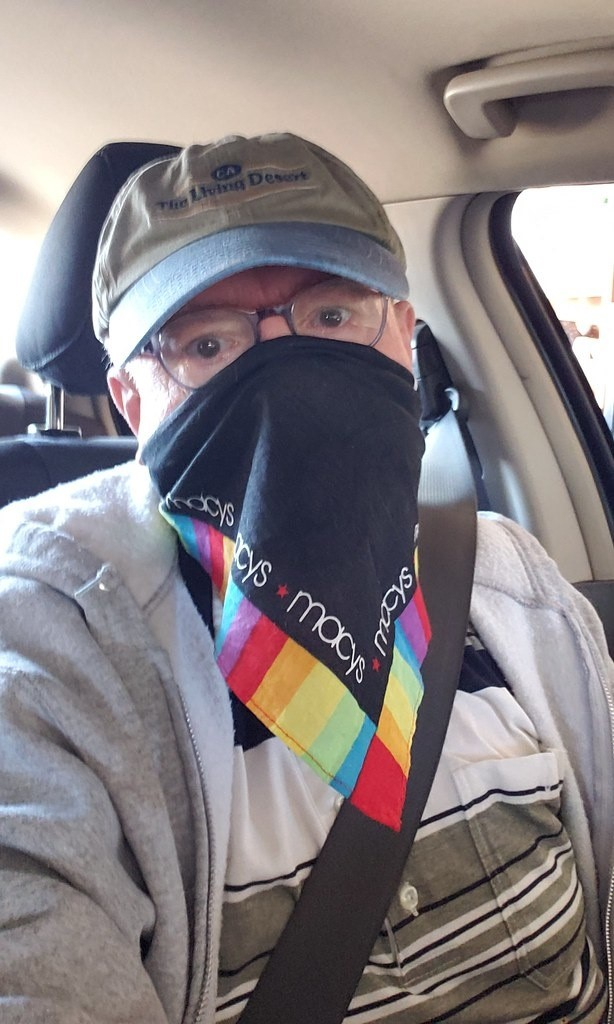face_with_mask: (95, 149, 430, 569)
